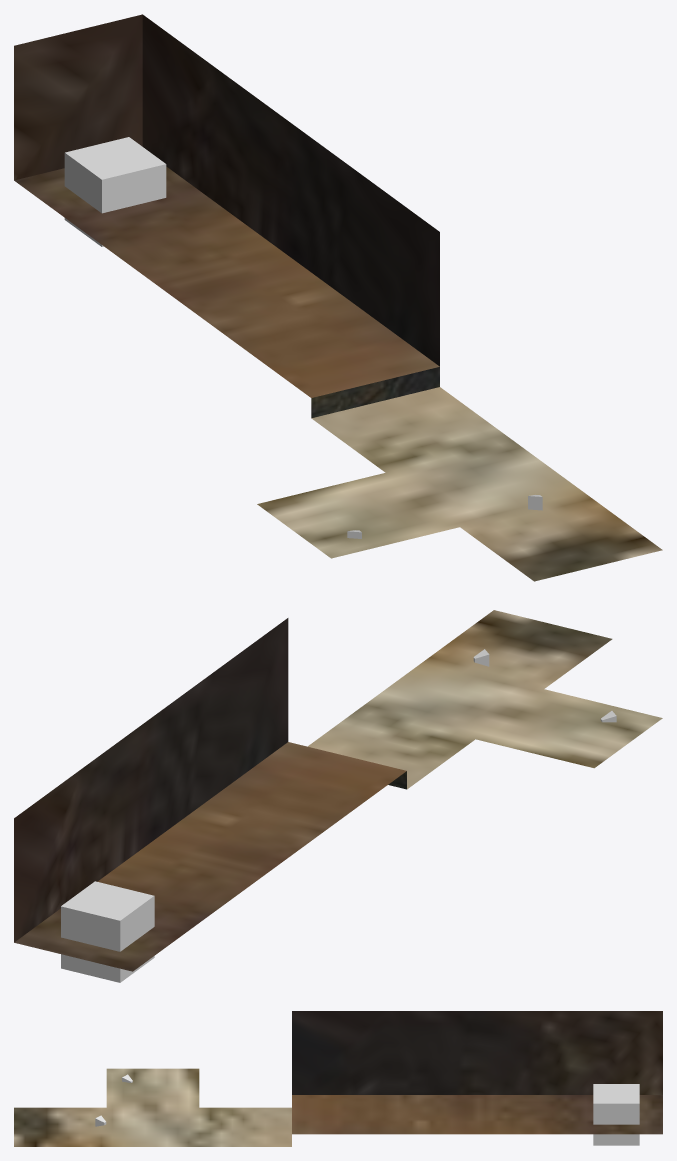
Rendered from staging-2.gltf.
3 views of the same model, one above another, from view 1: azimuth 30°, elevation 25°; view 2: azimuth 150°, elevation 25°; view 3: azimuth 270°, elevation 25° (orthographic). The views are drawn at different scales.
Visible parts, largest first — view 1: Plane.066, Plane.131, Plane.130, staging-to-courtyard.001; view 2: Plane.131, Plane.066, Plane.130, staging-to-courtyard.001; view 3: Plane.066, Plane.131, Plane.130, staging-to-courtyard.001.
Part boxes in pixels (left/top/right/bottom): Plane.066: left=14, top=14, right=439, bottom=366; Plane.131: left=14, top=167, right=662, bottom=581; Plane.130: left=15, top=167, right=661, bottom=581; staging-to-courtyard.001: left=64, top=137, right=166, bottom=246; Plane.131: left=14, top=610, right=662, bottom=971; Plane.066: left=14, top=618, right=288, bottom=942; Plane.130: left=14, top=610, right=660, bottom=970; staging-to-courtyard.001: left=61, top=881, right=154, bottom=982; Plane.066: left=292, top=1011, right=662, bottom=1094; Plane.131: left=14, top=1068, right=662, bottom=1146; Plane.130: left=15, top=1068, right=662, bottom=1146; staging-to-courtyard.001: left=593, top=1084, right=639, bottom=1145.
Bounding box in the file's own units: 40 × 25 × 140.
2 materials, 2 textured.
